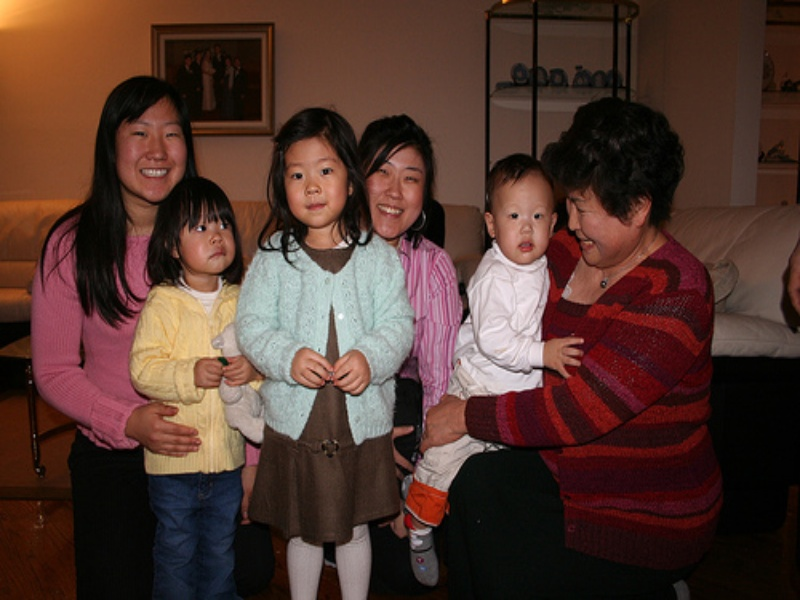person: (445, 96, 726, 600), (30, 75, 204, 600), (236, 108, 415, 600), (404, 154, 583, 585), (129, 178, 265, 600), (359, 114, 461, 477)
